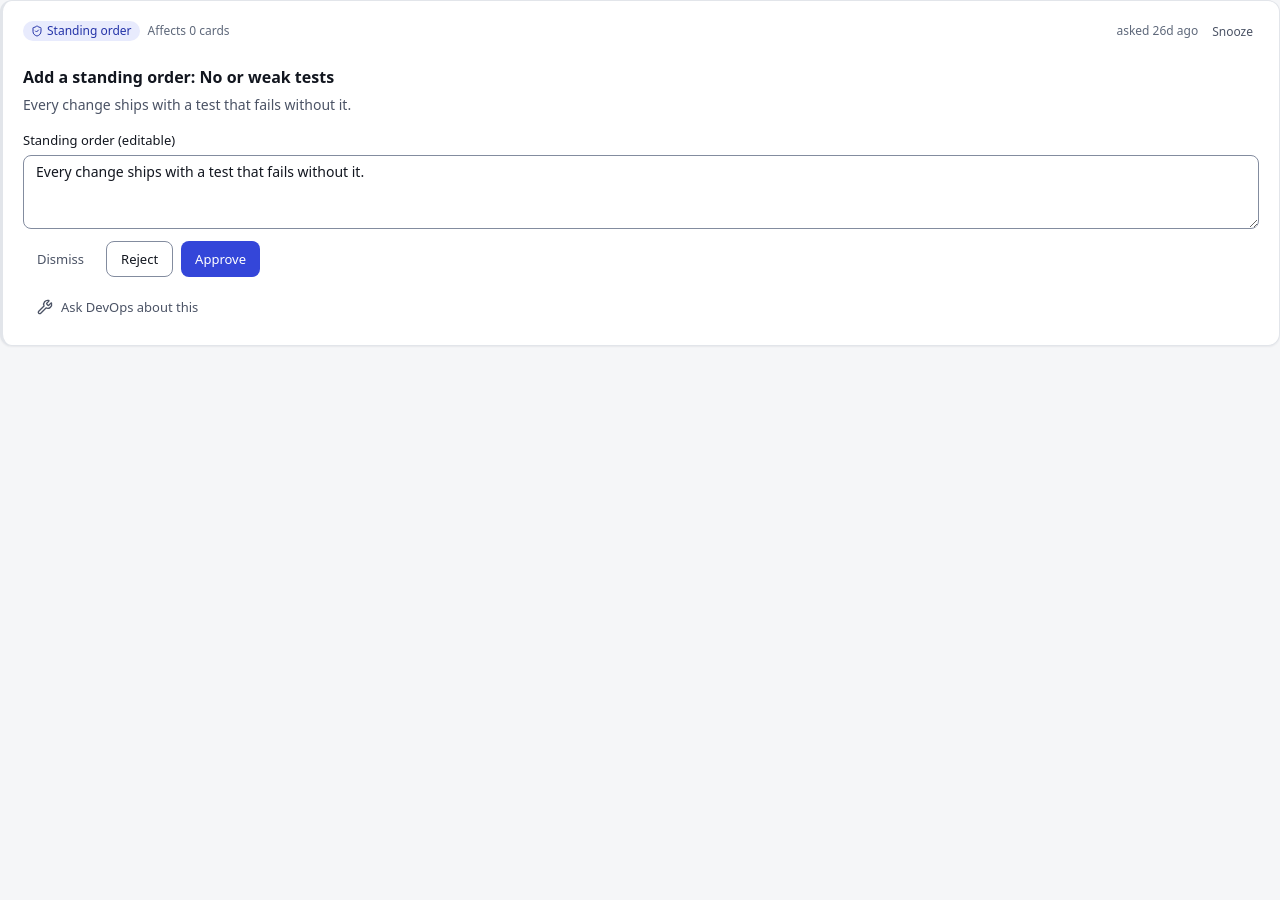
Test: a standing-order proposal on mobile › any other failure of Approve is shown too
Click the button with test id "desk-approve" at (221, 259), box top-left (181, 241), bottom-right (260, 277)
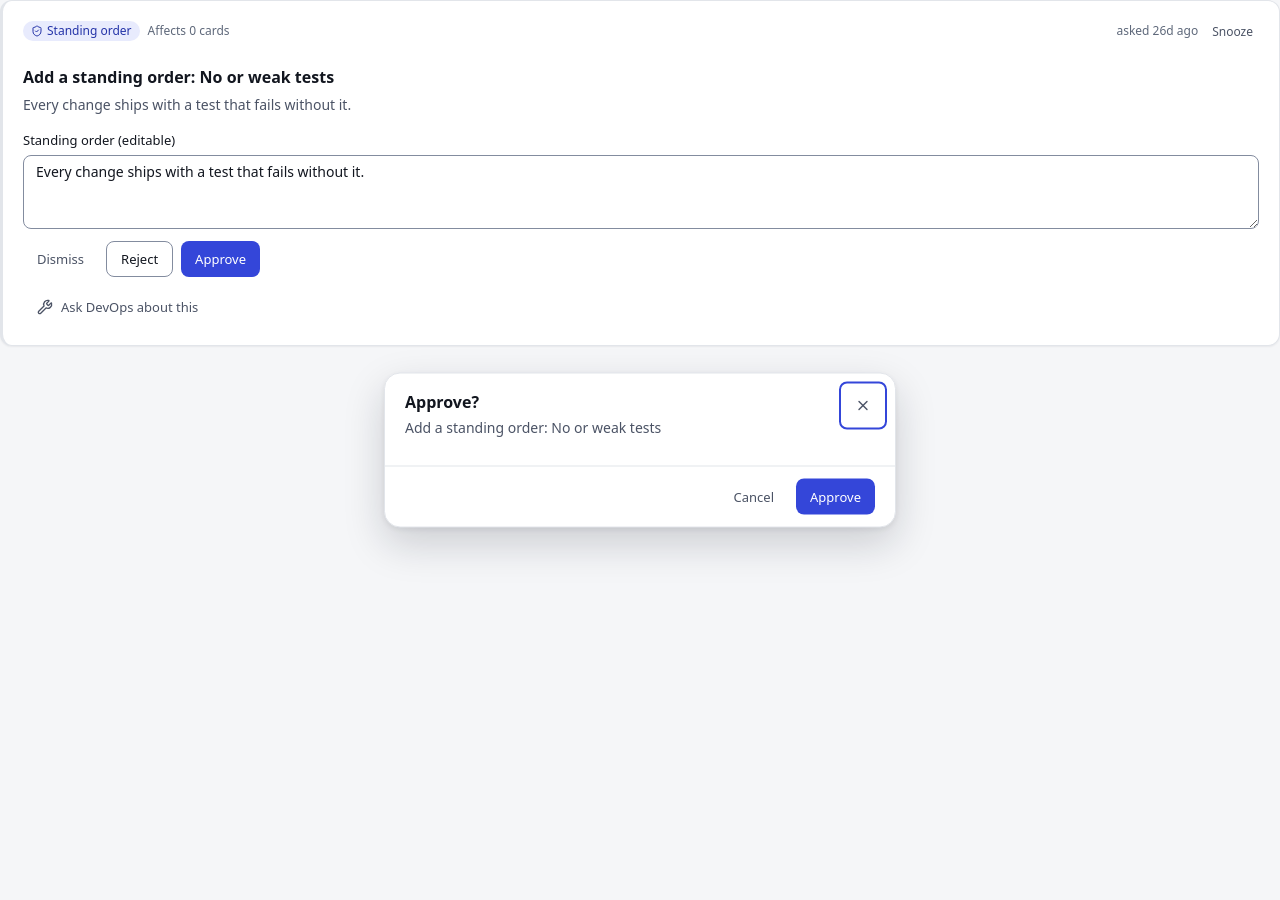
Click the button "Approve" at (836, 496), box top-left (796, 478), bottom-right (875, 514)
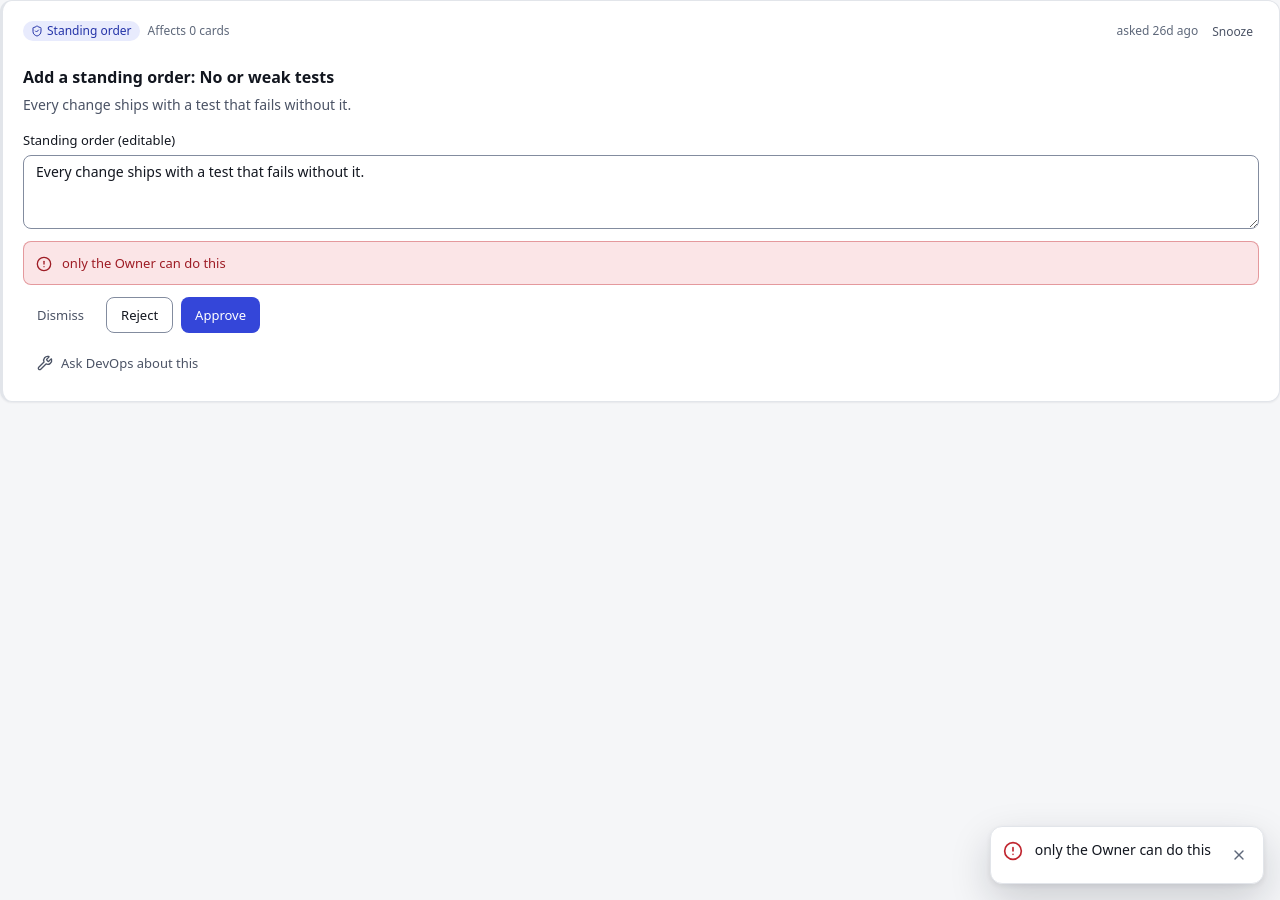
Expected: the text "only the Owner can do this" below "Standing order (editable)" is shown, top-left (62, 254), bottom-right (226, 272)
